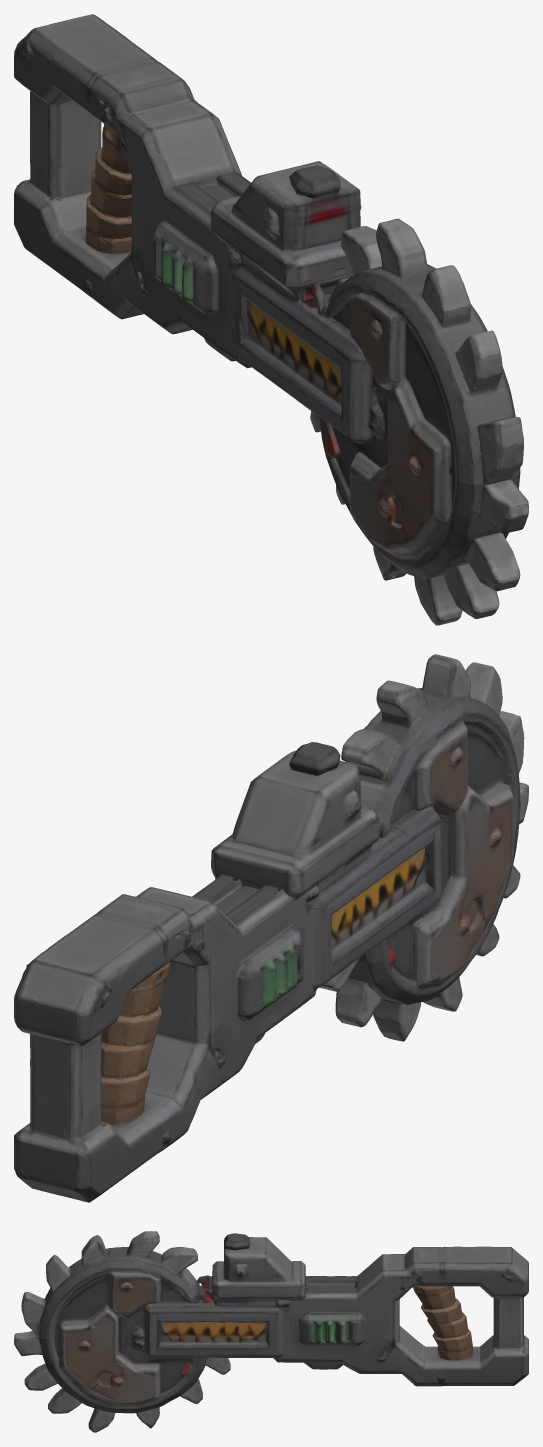
Rendered from CSAWA0.obj.
3 views of the same model, one above another, from view 1: azimuth 30°, elevation 25°; view 2: azimuth 150°, elevation 25°; view 3: azimuth 270°, elevation 25° (orthographic). The views are drawn at different scales.
Parts seen in each view (by area): view 1: geometry_0; view 2: geometry_0; view 3: geometry_0.
Part boxes in pixels (<box>): geometry_0: <box>14,14,528,625</box>; geometry_0: <box>14,654,528,1202</box>; geometry_0: <box>14,1231,528,1432</box>.
Size of the model in its own units: 0.1412 by 0.4211 by 0.9994.
Materials: 1 (1 with a texture image).
